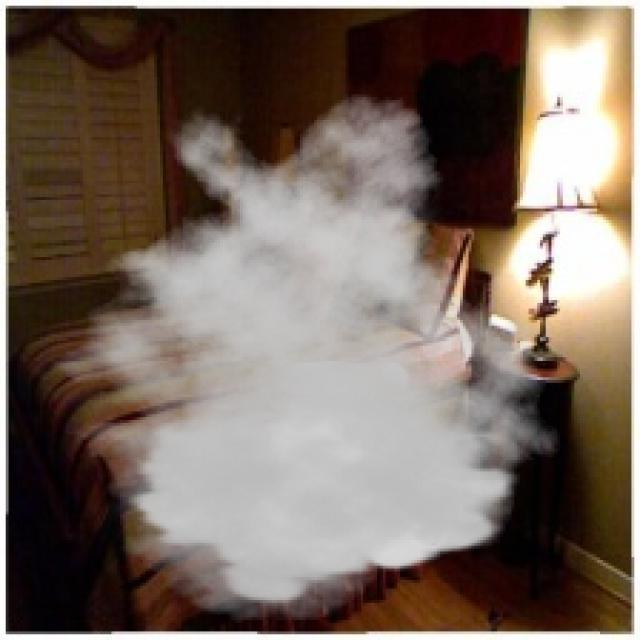Smoke: (26, 91, 568, 623)
